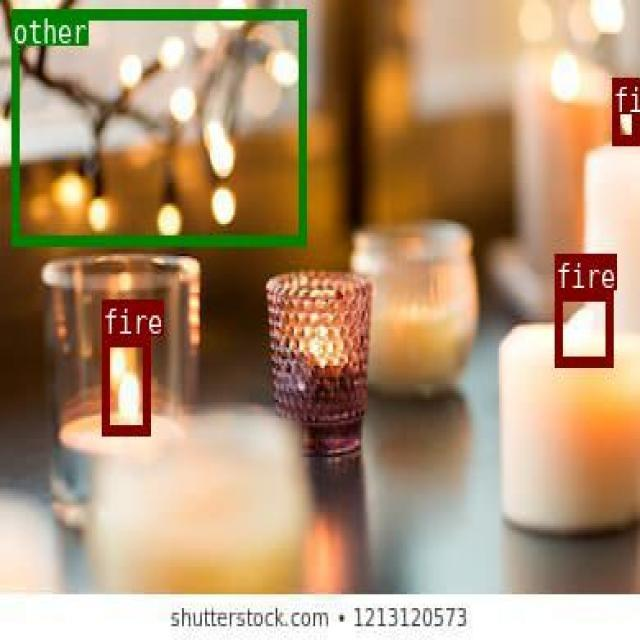fire: (101, 336, 148, 434), (555, 290, 612, 364), (611, 77, 637, 142)
